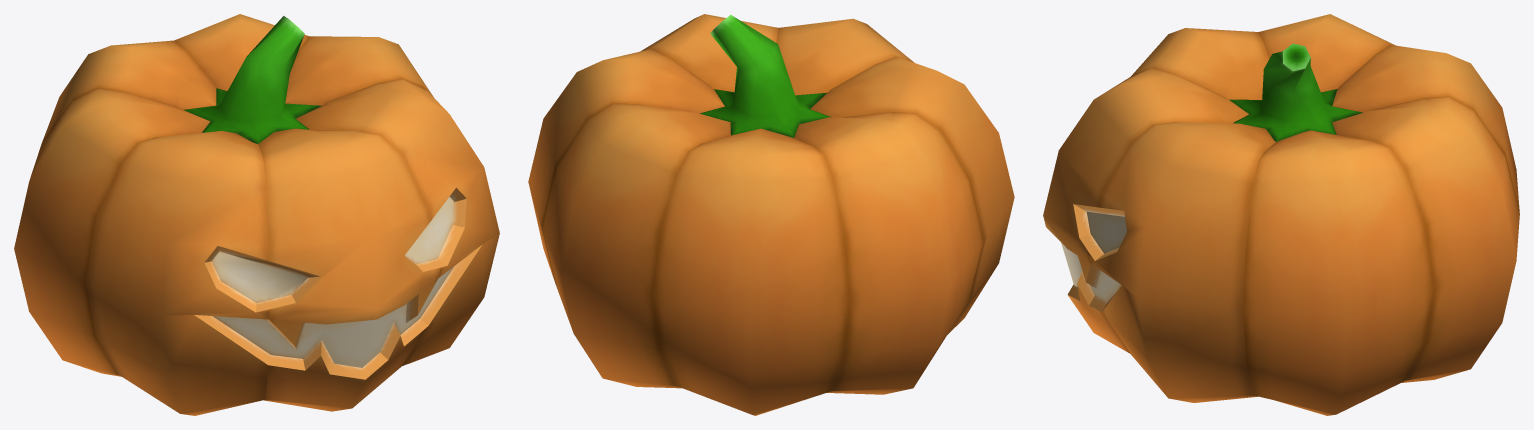
Rendered from FBX_JackOLantern.fbx.
3 views of the same model, side by side, from view 1: azimuth 30°, elevation 25°; view 2: azimuth 150°, elevation 25°; view 3: azimuth 270°, elevation 25° (orthographic).
Parts seen in each view (by area): view 1: SM_JackOLantern; view 2: SM_JackOLantern; view 3: SM_JackOLantern.
Boxes of the visible parts, x1,y1,x2,y2 form: SM_JackOLantern: [14, 14, 499, 415]; SM_JackOLantern: [528, 14, 1014, 415]; SM_JackOLantern: [1043, 14, 1519, 415].
Bounding box in the file's own units: 86.83 × 64.1 × 85.25.
